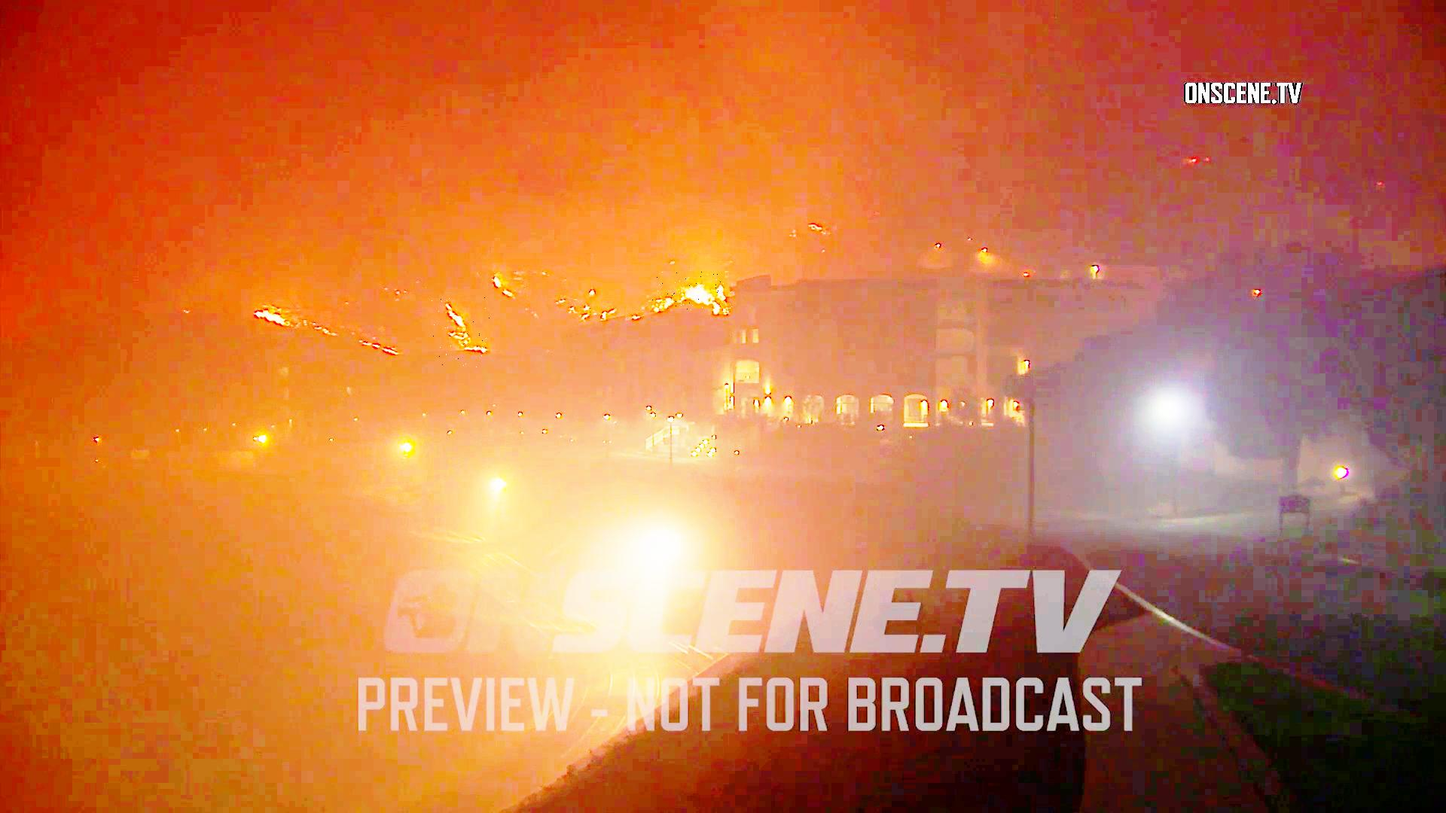fire: (432, 297, 490, 371), (651, 272, 737, 311)
